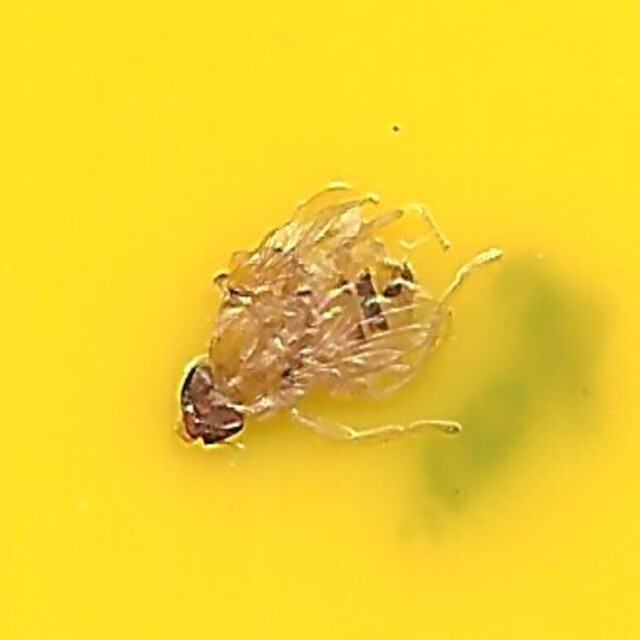Brachycera: (167, 194, 473, 446)
